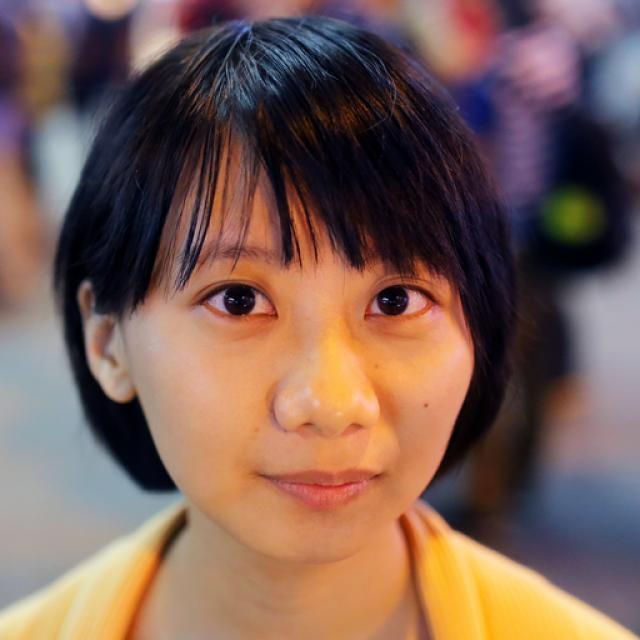content: (128, 145, 476, 563)
